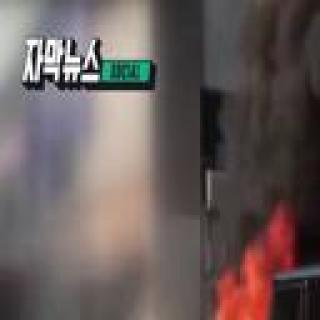fire: (219, 231, 294, 320)
